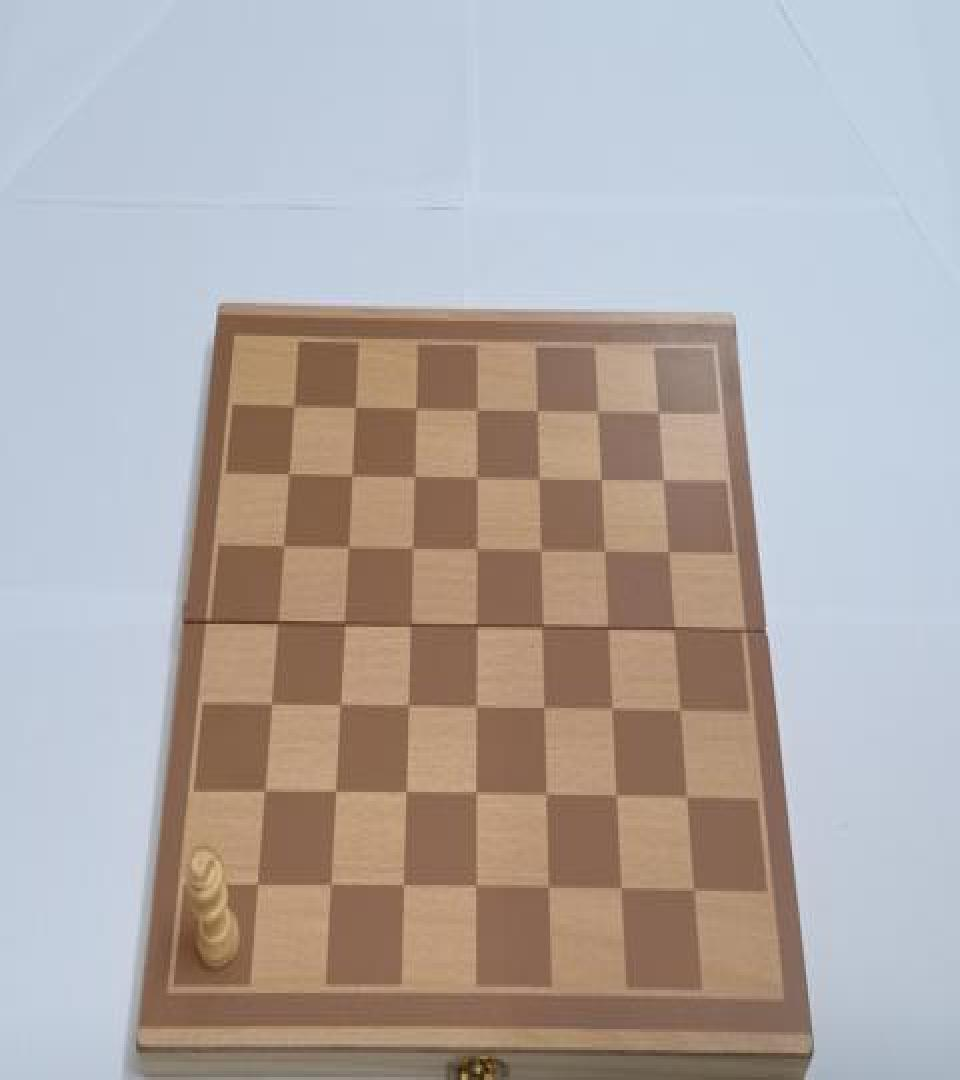xcorner: (280, 460, 298, 488), (343, 460, 361, 488), (408, 394, 426, 422), (399, 694, 417, 722), (468, 394, 486, 422), (593, 466, 611, 494), (275, 532, 293, 559), (268, 610, 286, 637), (255, 780, 273, 807), (247, 874, 265, 901), (347, 393, 365, 420), (339, 534, 357, 561), (335, 612, 353, 639), (330, 693, 348, 720), (320, 874, 338, 901), (406, 462, 424, 489), (401, 612, 419, 639), (397, 783, 415, 810), (394, 876, 412, 903), (468, 537, 486, 564), (468, 696, 486, 723), (467, 785, 485, 812), (529, 396, 547, 423), (531, 465, 549, 492), (532, 538, 550, 565), (534, 615, 552, 642), (538, 786, 556, 813), (540, 879, 558, 906), (590, 397, 608, 424), (597, 538, 615, 565), (601, 617, 619, 644), (605, 699, 623, 726), (609, 786, 627, 813), (613, 880, 631, 907), (650, 399, 668, 426), (656, 468, 674, 495), (661, 540, 679, 567), (667, 618, 685, 645), (673, 700, 691, 727), (686, 882, 704, 909), (286, 392, 304, 418), (262, 692, 280, 718), (326, 782, 344, 808), (404, 536, 422, 562), (468, 464, 486, 490), (468, 614, 486, 640), (467, 878, 485, 904), (536, 698, 554, 724), (679, 788, 697, 814)
